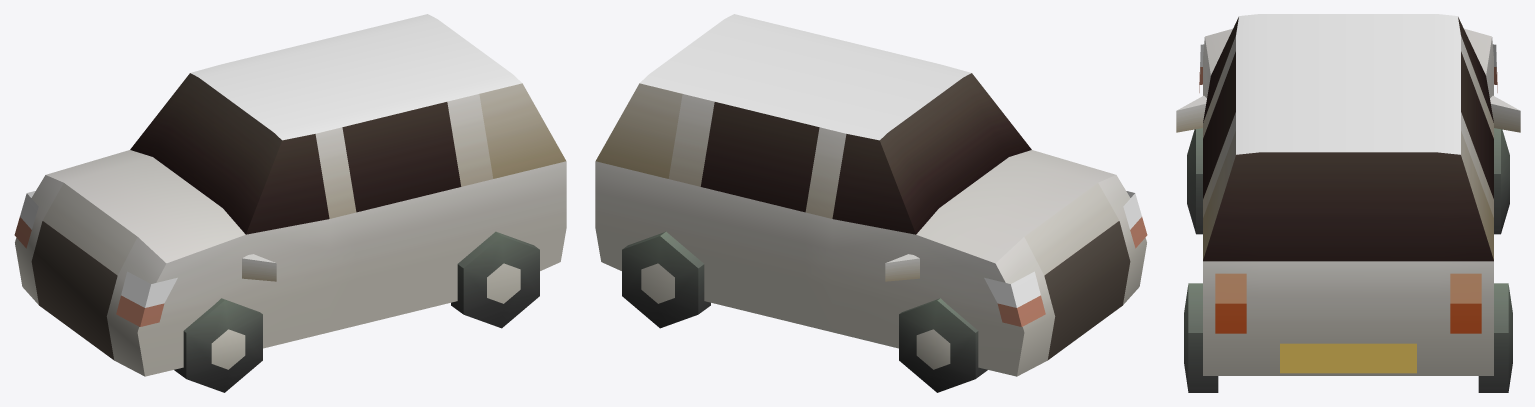
Rendered from SM_City_Car_01.fbx.
3 renders of one model, left to right at view 1: azimuth 30°, elevation 25°; view 2: azimuth 150°, elevation 25°; view 3: azimuth 270°, elevation 25°, orthographic. The views are drawn at different scales.
Parts seen in each view (by area): view 1: SM_City_Car_01; view 2: SM_City_Car_01; view 3: SM_City_Car_01.
Part boxes in pixels (x1,y1,x2,y2): SM_City_Car_01: (14, 14, 566, 392); SM_City_Car_01: (595, 14, 1147, 392); SM_City_Car_01: (1176, 14, 1520, 392).
Size of the model in its own units: 1.36 by 0.6547 by 0.774.
